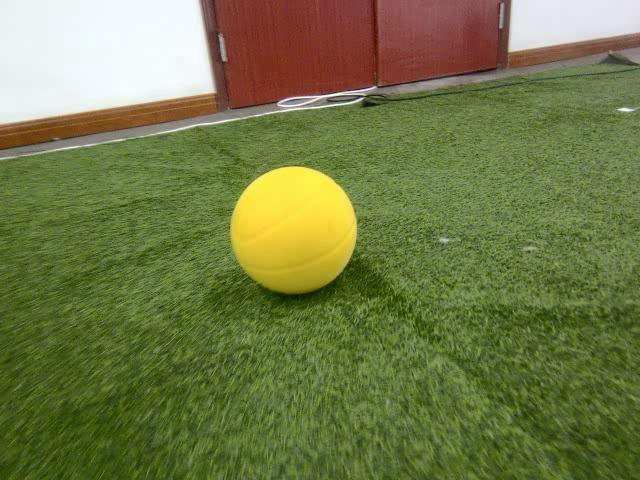yellow_ball: (231, 166, 357, 297)
